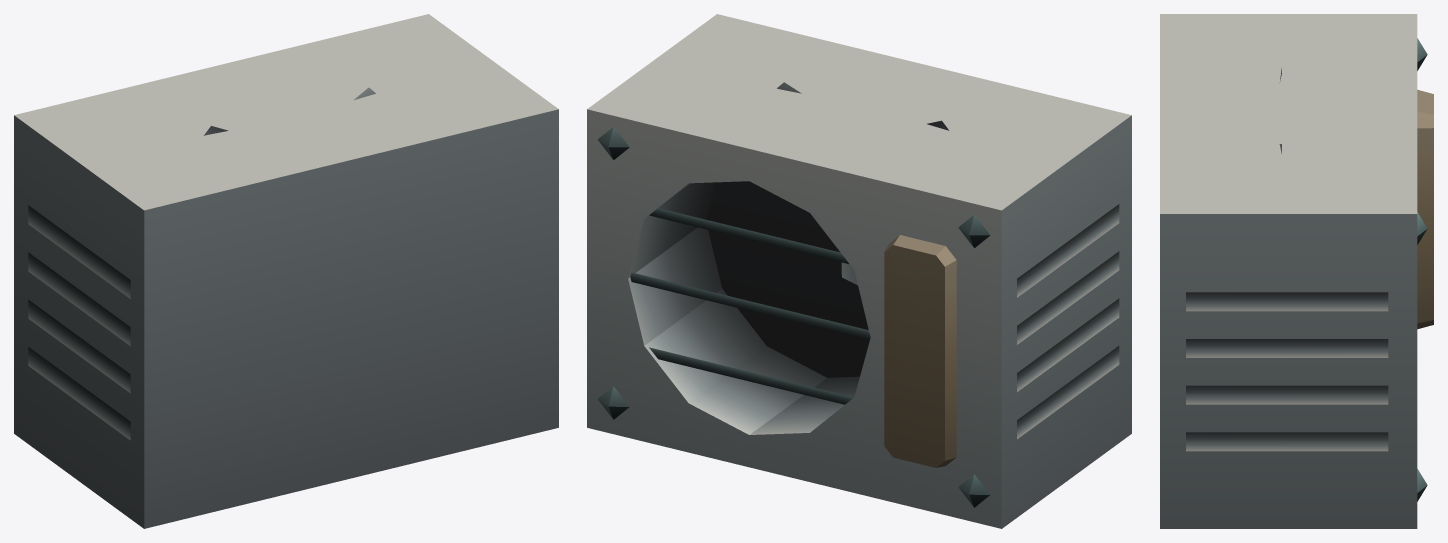
File: Air_Conditioner_1A.fbx
3 renders of one model, left to right at view 1: azimuth 30°, elevation 25°; view 2: azimuth 150°, elevation 25°; view 3: azimuth 270°, elevation 25°, orthographic.
Parts seen in each view (by area): view 1: Air_Conditioner_1A; view 2: Air_Conditioner_1A; view 3: Air_Conditioner_1A.
Part boxes in pixels (left/top/right/bottom): Air_Conditioner_1A: left=14, top=14, right=558, bottom=528; Air_Conditioner_1A: left=587, top=14, right=1131, bottom=528; Air_Conditioner_1A: left=1160, top=14, right=1433, bottom=528.
Size of the model in its own units: 184 by 139 by 106.
